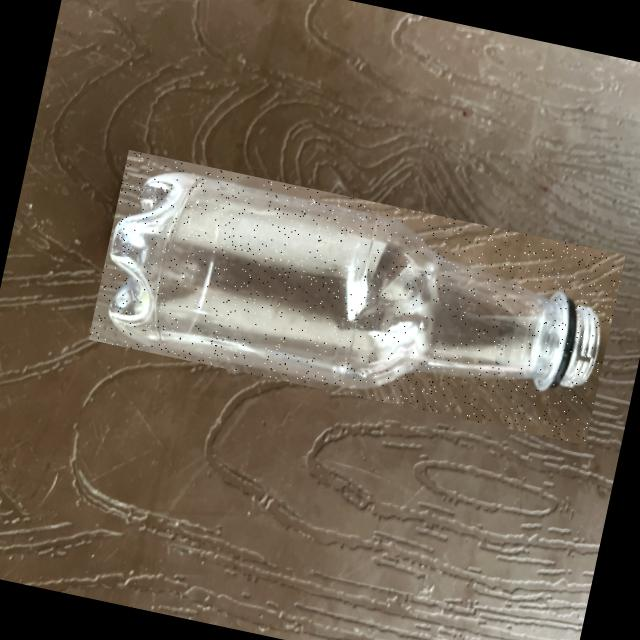PET_With_Cap: (88, 149, 625, 444)
